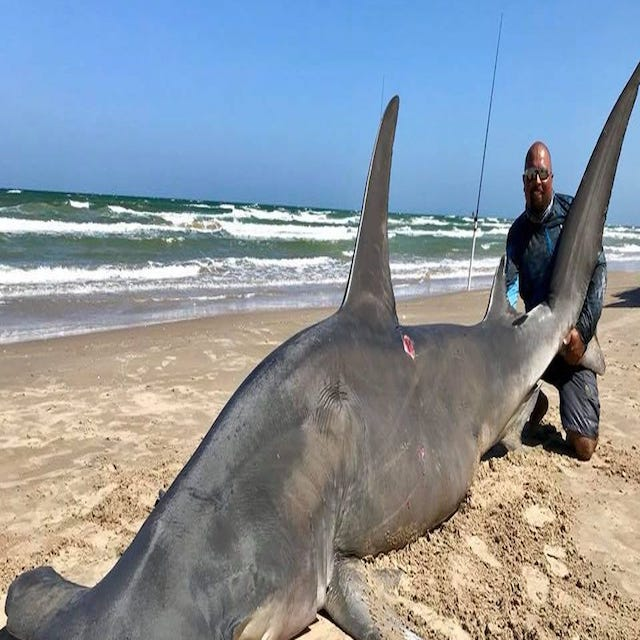hammerhead: (3, 358, 436, 640)
